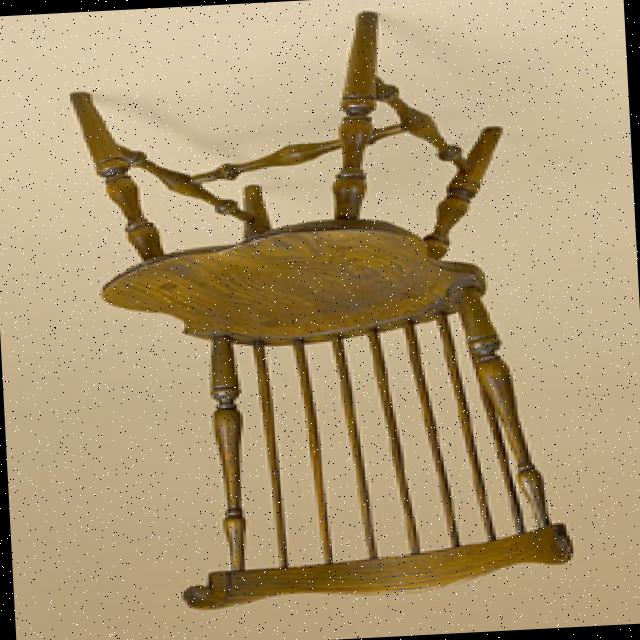Chair: (1, 0, 621, 640)
